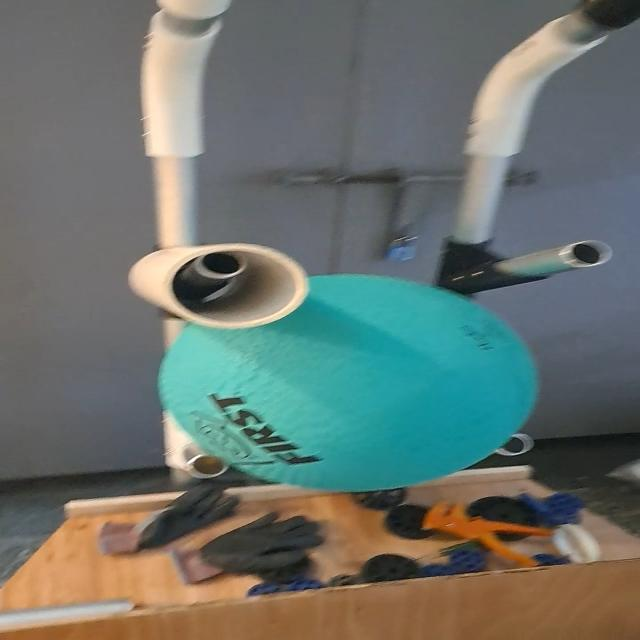ALGAE: (157, 275, 542, 492)
CORAL: (124, 240, 314, 330)
